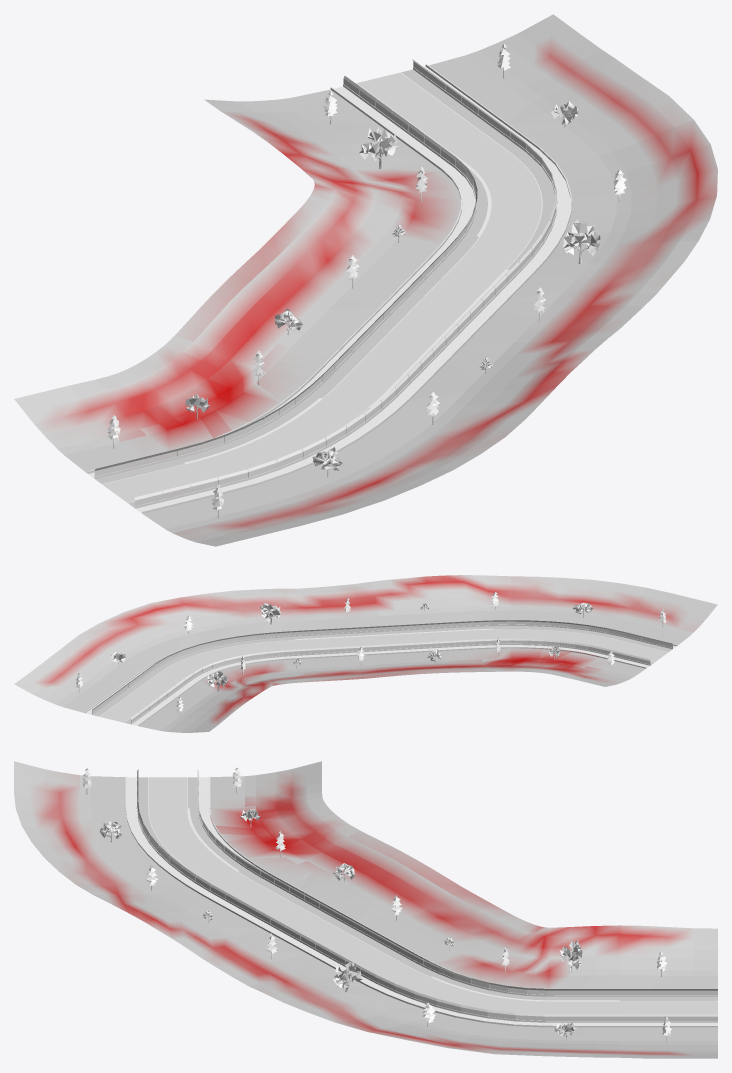
3 views of the same model, one above another, from view 1: azimuth 30°, elevation 25°; view 2: azimuth 150°, elevation 25°; view 3: azimuth 270°, elevation 25° (orthographic). The views are drawn at different scales.
Parts seen in each view (by area): view 1: Grass, Road, Track, Wirefence, Trees; view 2: Grass, Road, Wirefence, Track, Trees; view 3: Grass, Road, Track, Wirefence, Trees.
Part boxes in pixels (x1,y1,x2,y2): Grass: (14,14,717,546); Road: (102,72,541,502); Track: (87,59,571,513); Wirefence: (94,60,556,506); Trees: (107,44,626,518); Grass: (14,575,717,732); Road: (100,629,667,722); Wirefence: (92,620,672,722); Track: (85,620,676,725); Trees: (76,592,666,714); Grass: (14,761,717,1058); Road: (149,777,717,1014); Track: (125,775,717,1027); Wirefence: (137,769,717,1020); Trees: (82,767,671,1042).
Size of what is drawn, in the model's own units: 32000 by 1702 by 32000.
